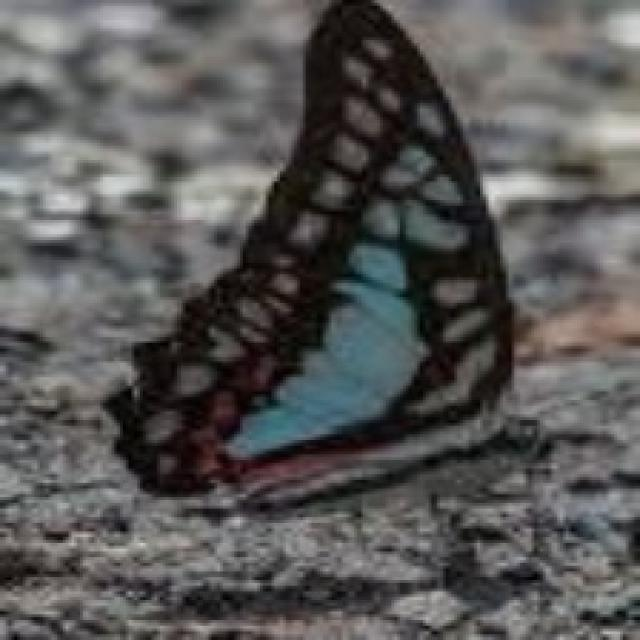butterfly: (105, 0, 540, 511)
